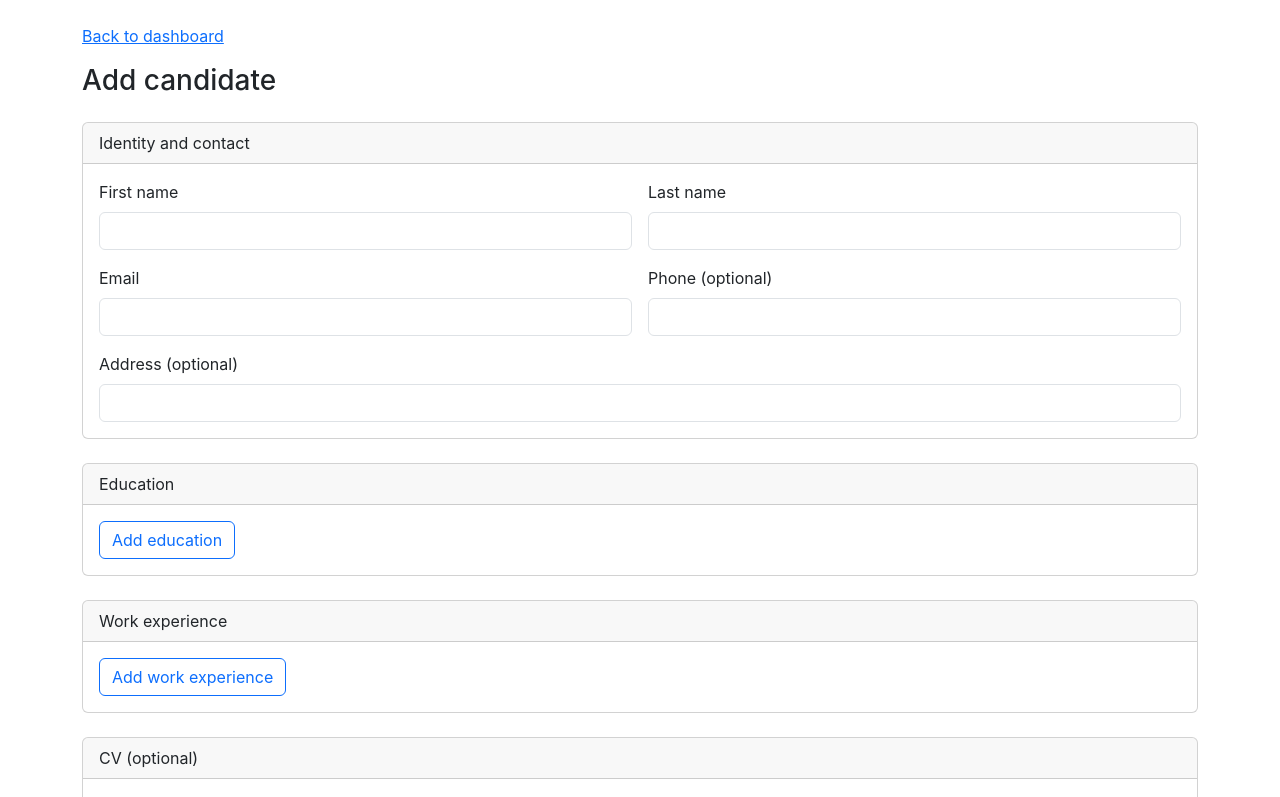
Scenario: AddCandidatePage › submits and shows success with candidate id
Type "Jane" into the field with test id "field-firstName" at (366,231), box [99,212,632,250]
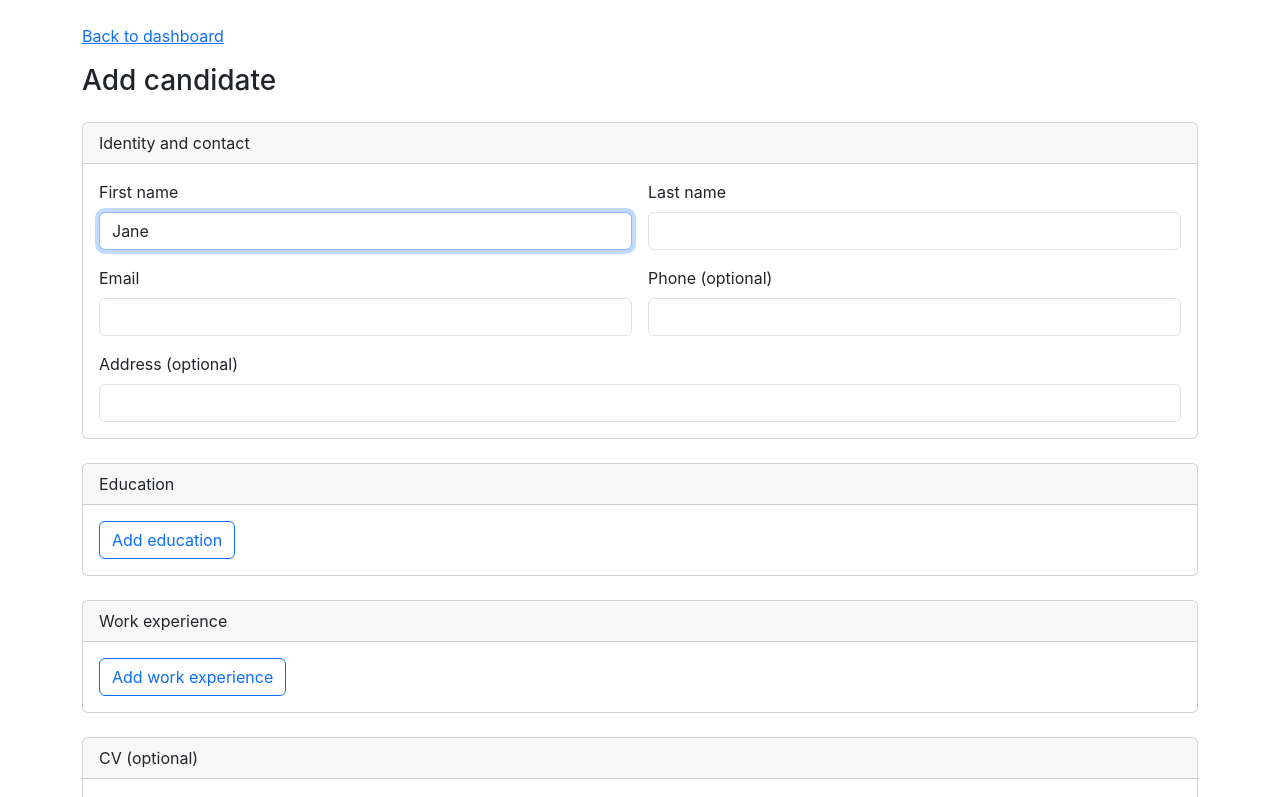
Type "Doe" into the field with test id "field-lastName" at (914,231), box [648,212,1181,250]
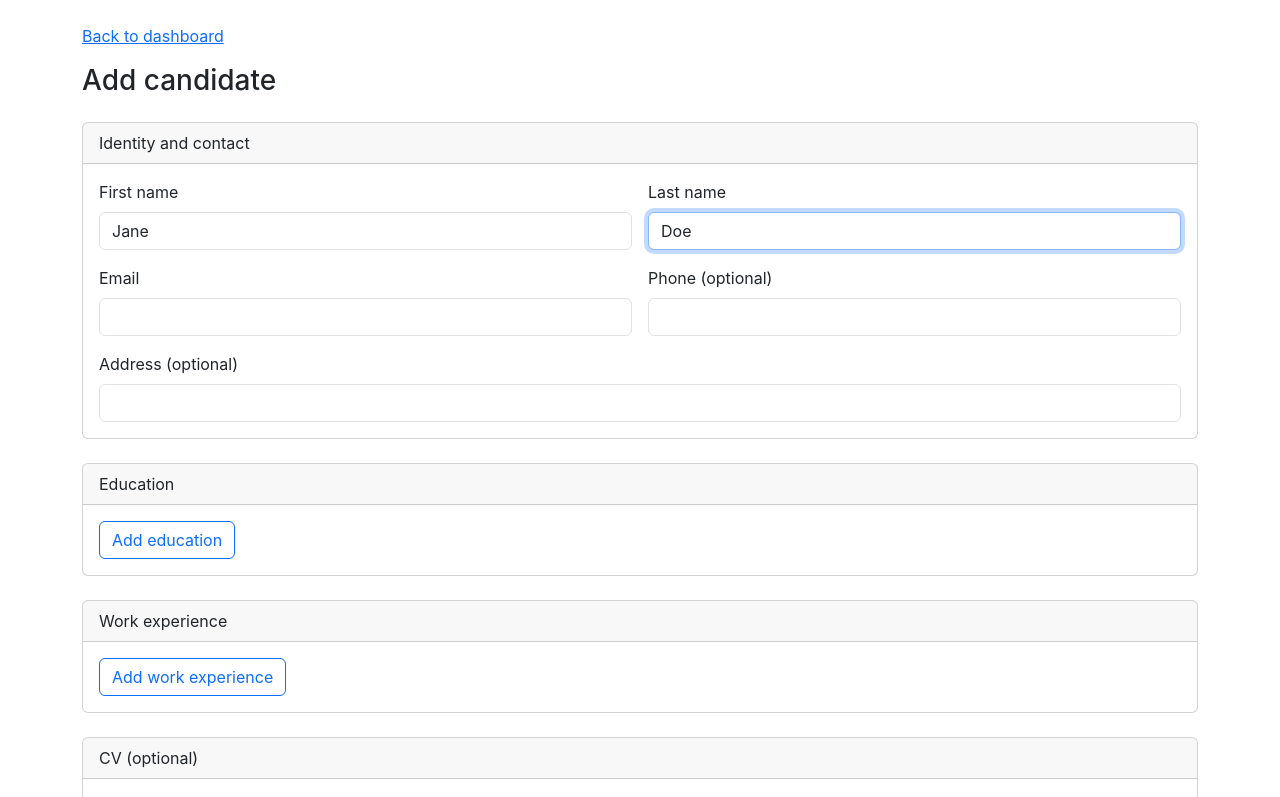
Type "jane@example.com" into the field with test id "field-email" at (366,317), box [99,298,632,336]
(page scrolled)
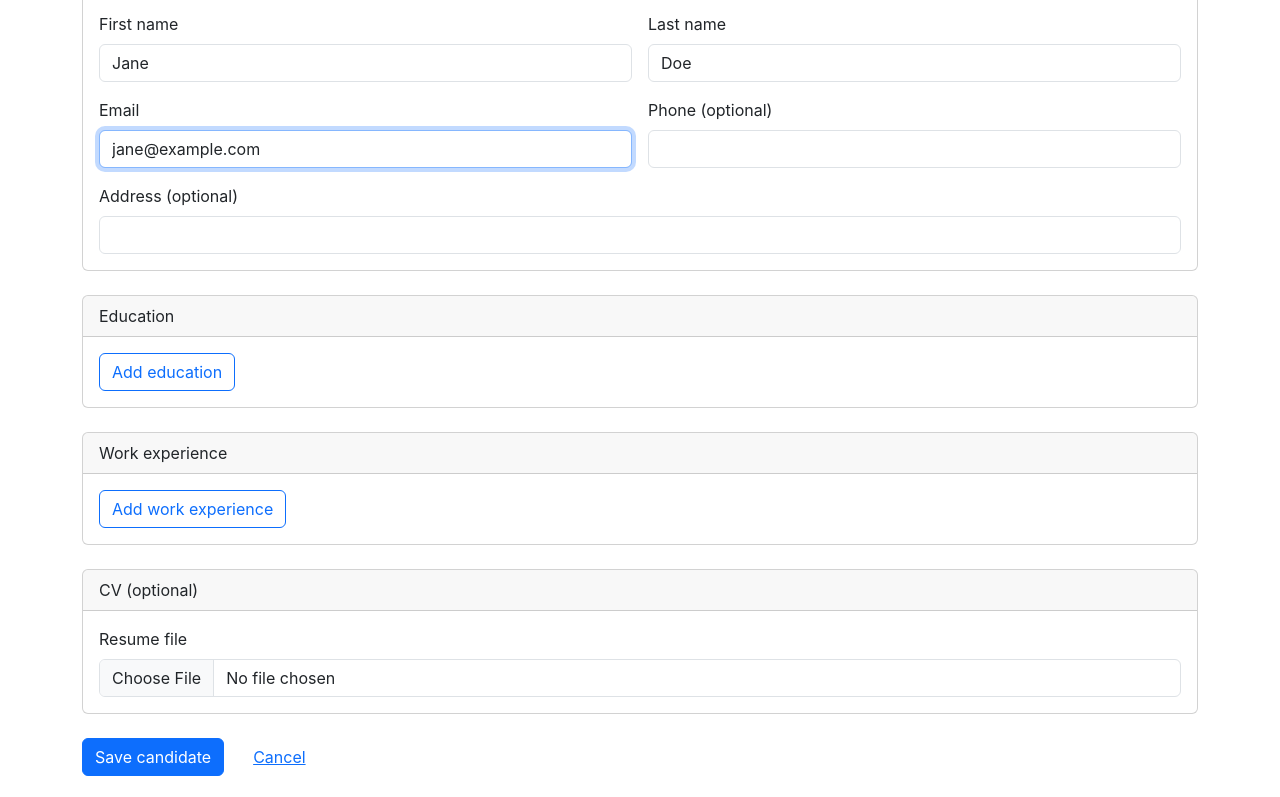
Click the button with test id "add-candidate-submit" at (153,757), box [82,738,224,776]
(page scrolled)
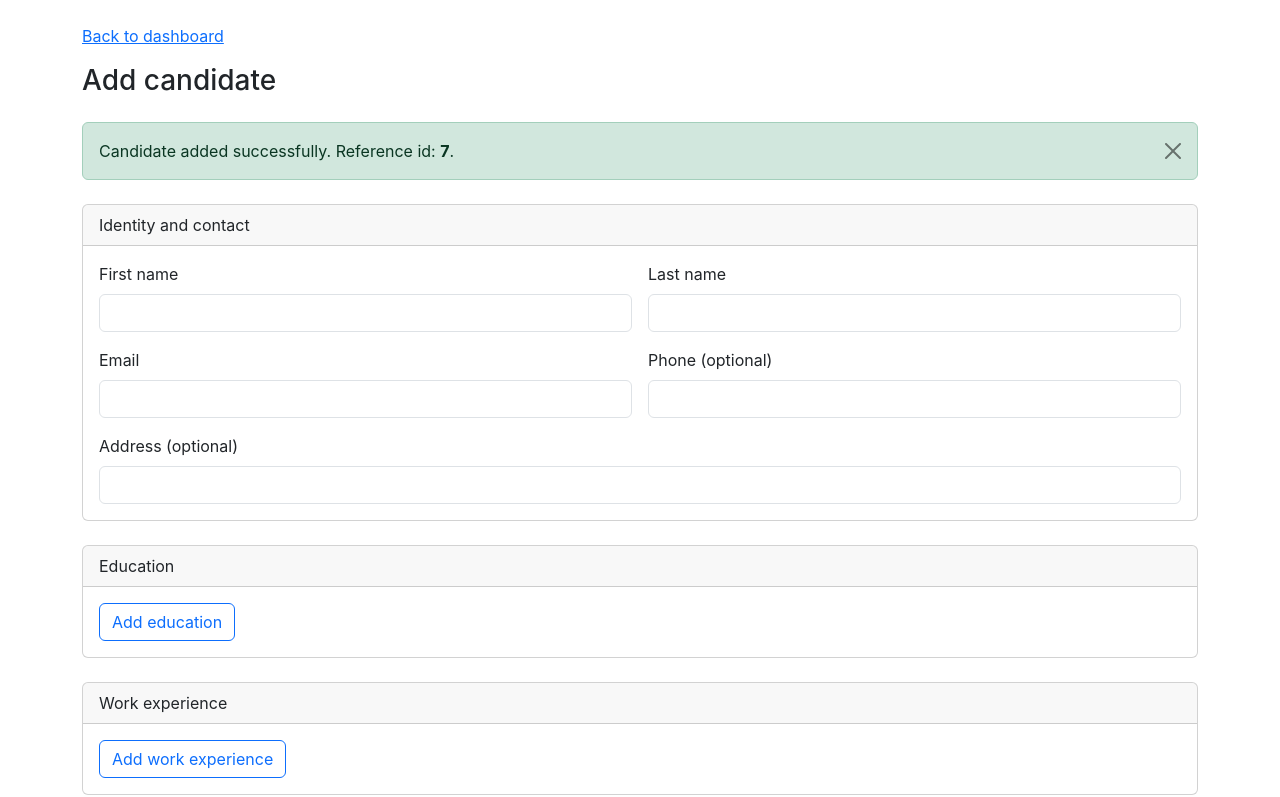
Check: the text "Candidate added successfully. Reference id: 7." is shown, box [82,122,1198,180]
Check: the text "7" is shown, box [440,141,450,161]
